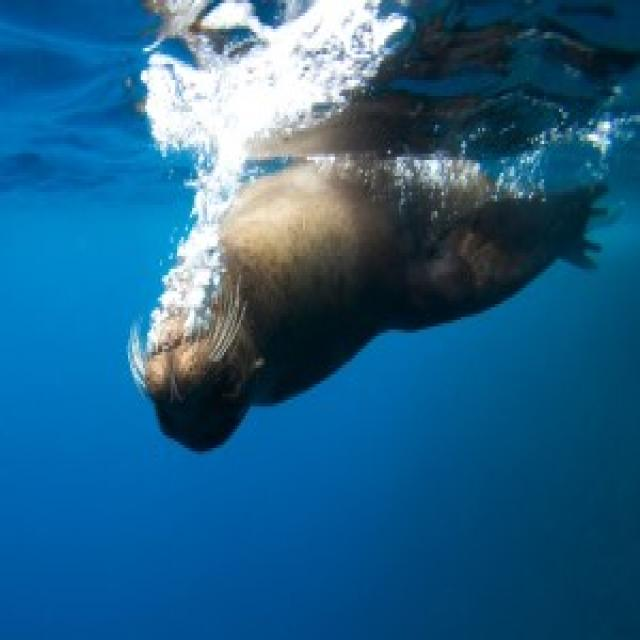Seal: (135, 104, 612, 459)
